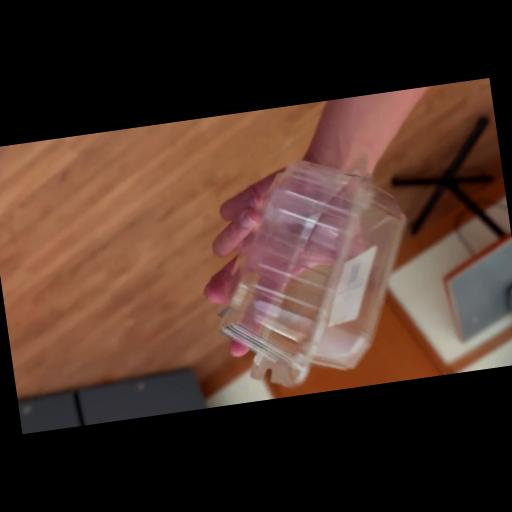small_plastic_container: (202, 149, 426, 395)
